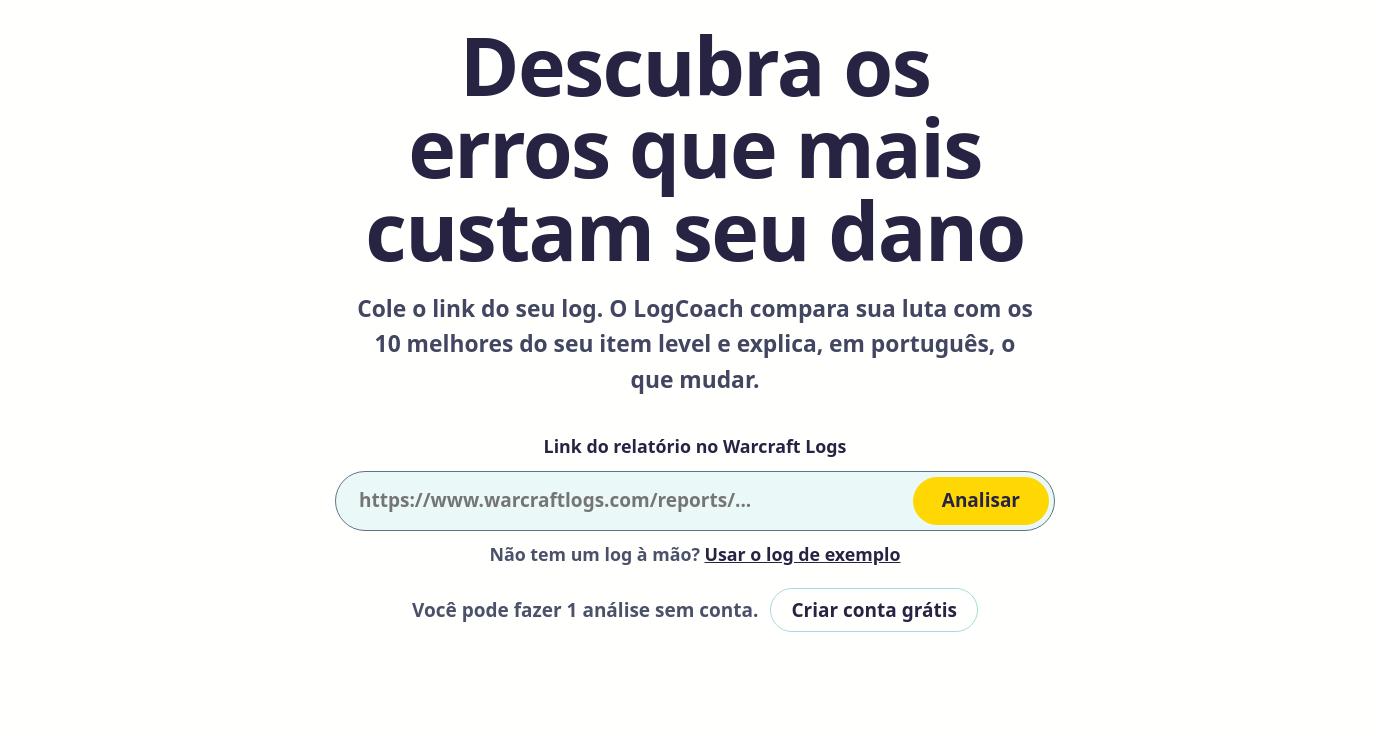
Test: Home › o aviso some assim que a pessoa volta a digitar
Step 1. Click the button "Analisar" → (981, 501), box x1=913 y1=477 x2=1049 y2=525
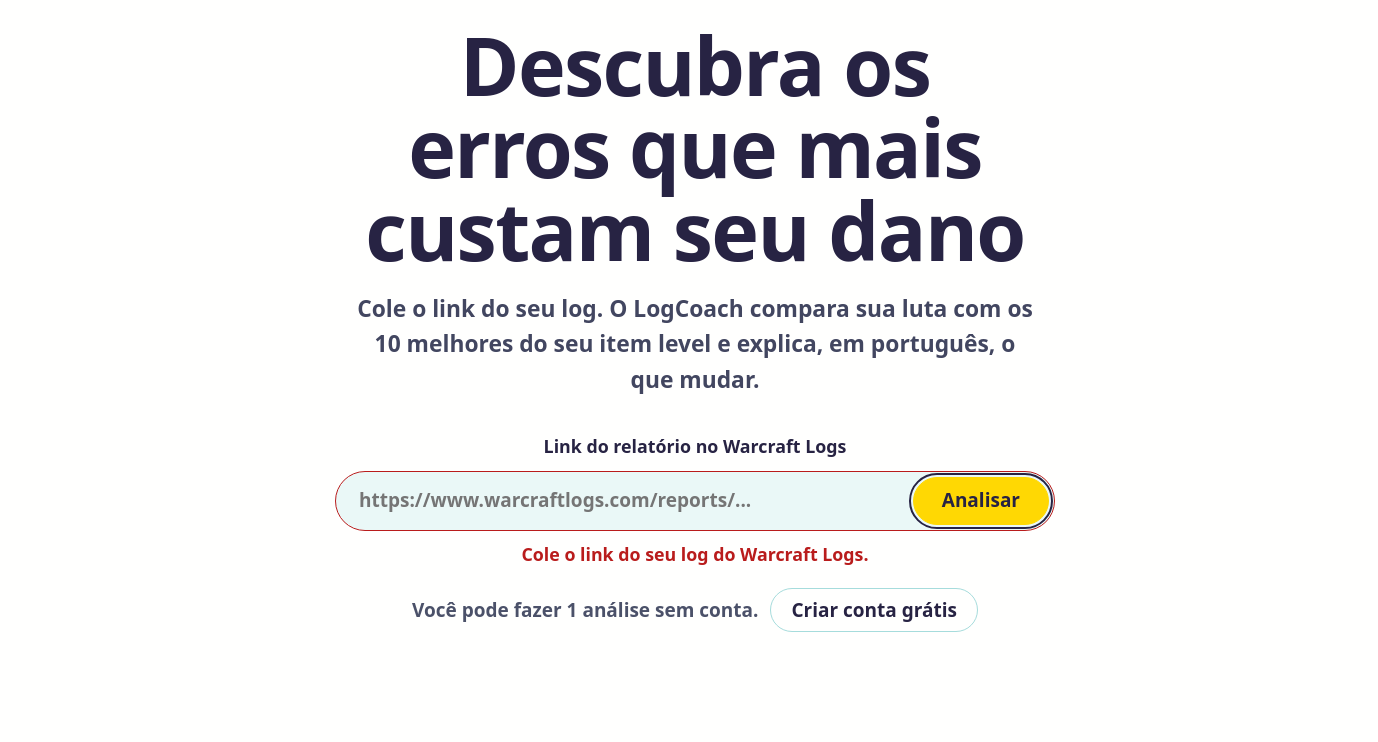
Now the text "Cole o link do seu log do Warcraft Logs." is shown, box x1=522 y1=541 x2=869 y2=568
Step 2. Type "h" into the field labelled "Link do relatório no Warcraft Logs" → (623, 501), box x1=341 y1=479 x2=905 y2=523
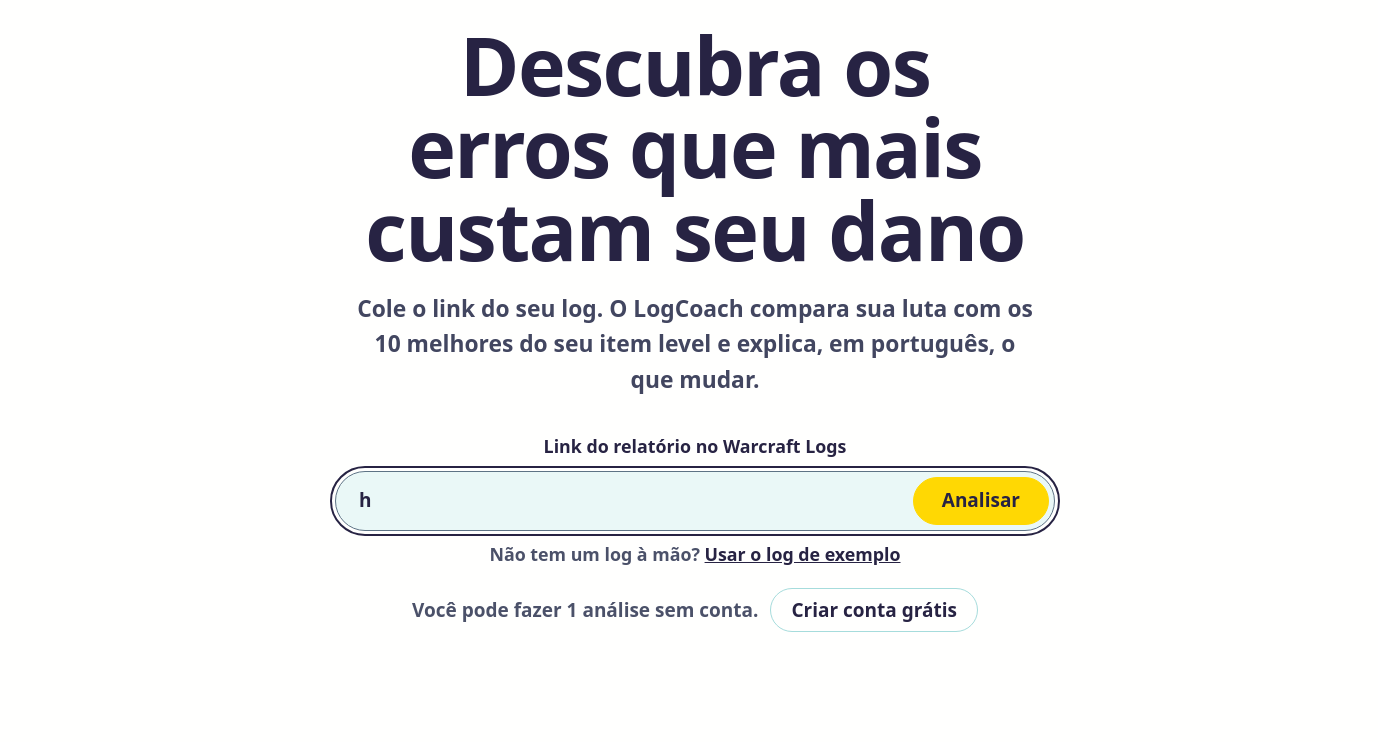
Now the text "Cole o link do seu log do Warcraft Logs." is gone
